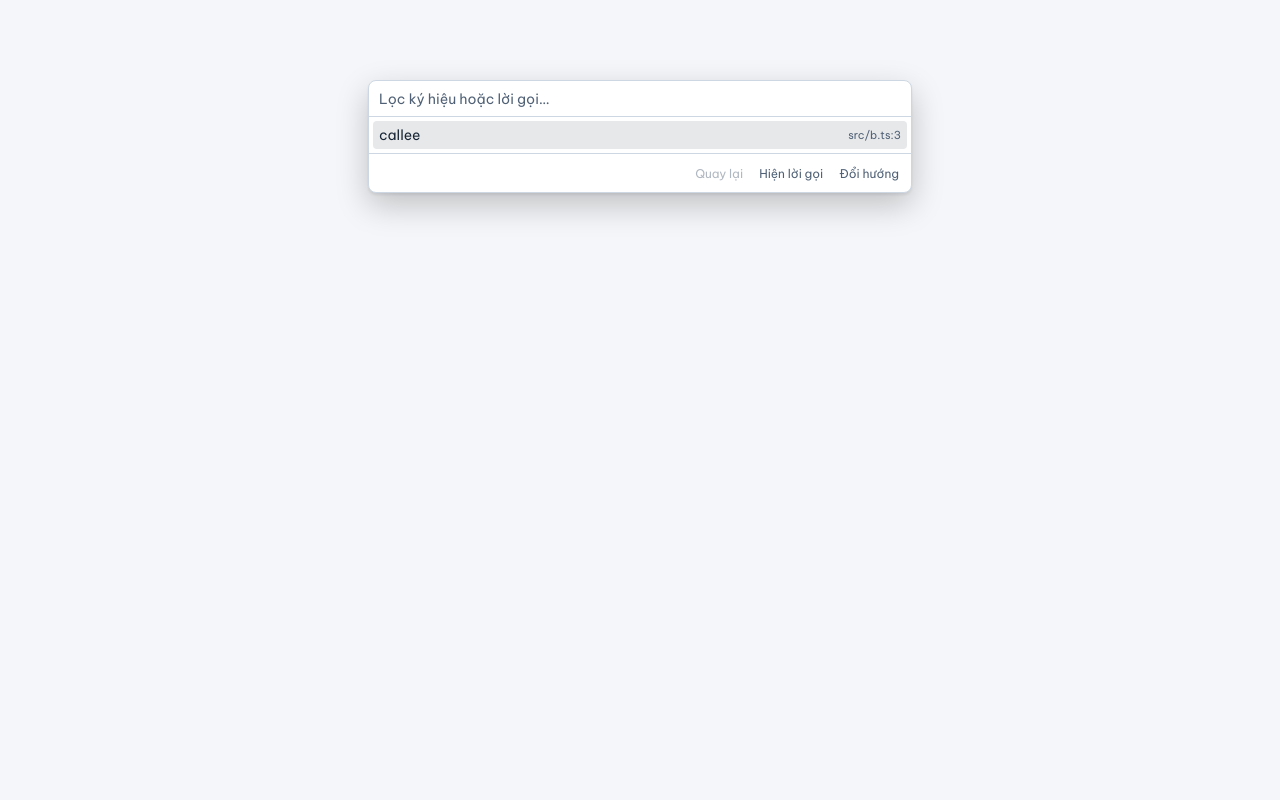
EditorTools › EditorTools E3 › phân cấp lời gọi › nút Quay lại đi lên stack và Đổi hướng gọi API với đúng gốc
Click the text "callee".
click(400, 135)  # box [379,126,420,144]
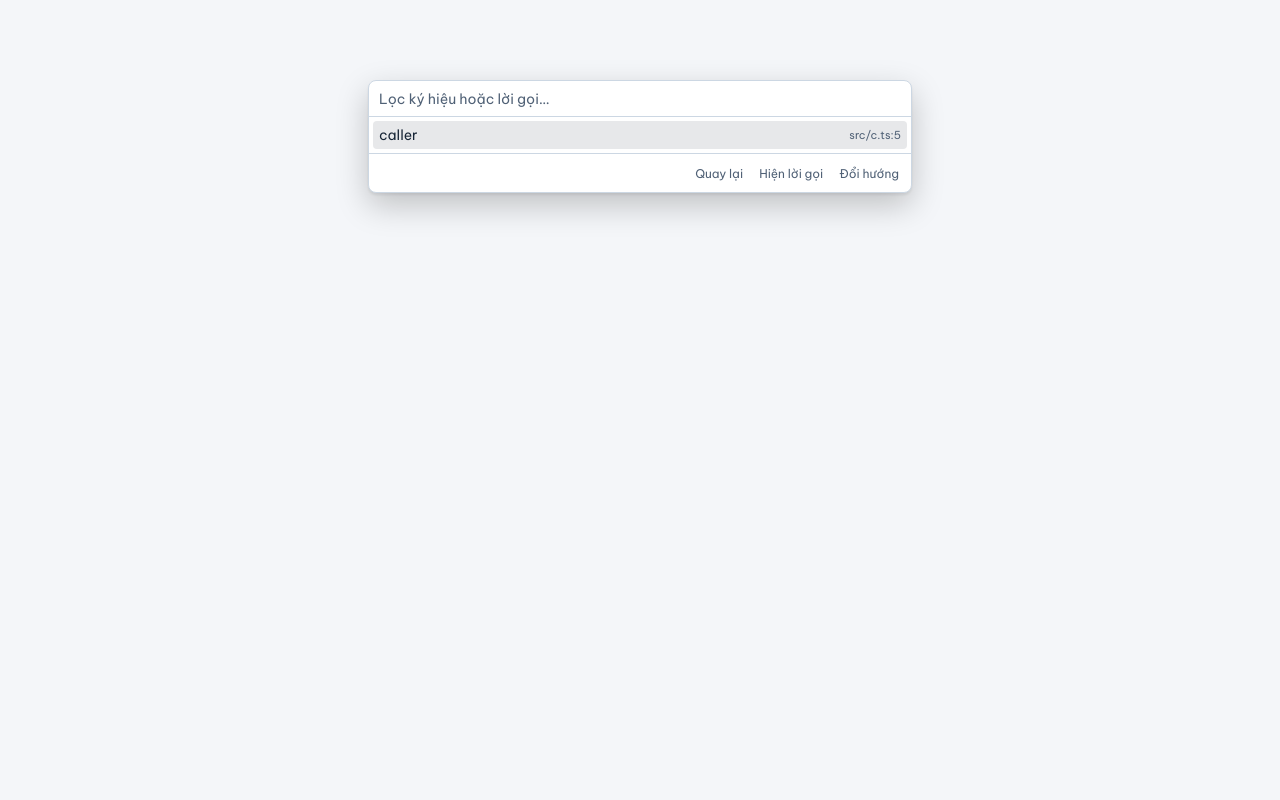
Expected: the text "caller" is shown, [379,126,418,144]
Click the button "Hiện lời gọi".
click(791, 173)  # box [753,160,829,186]
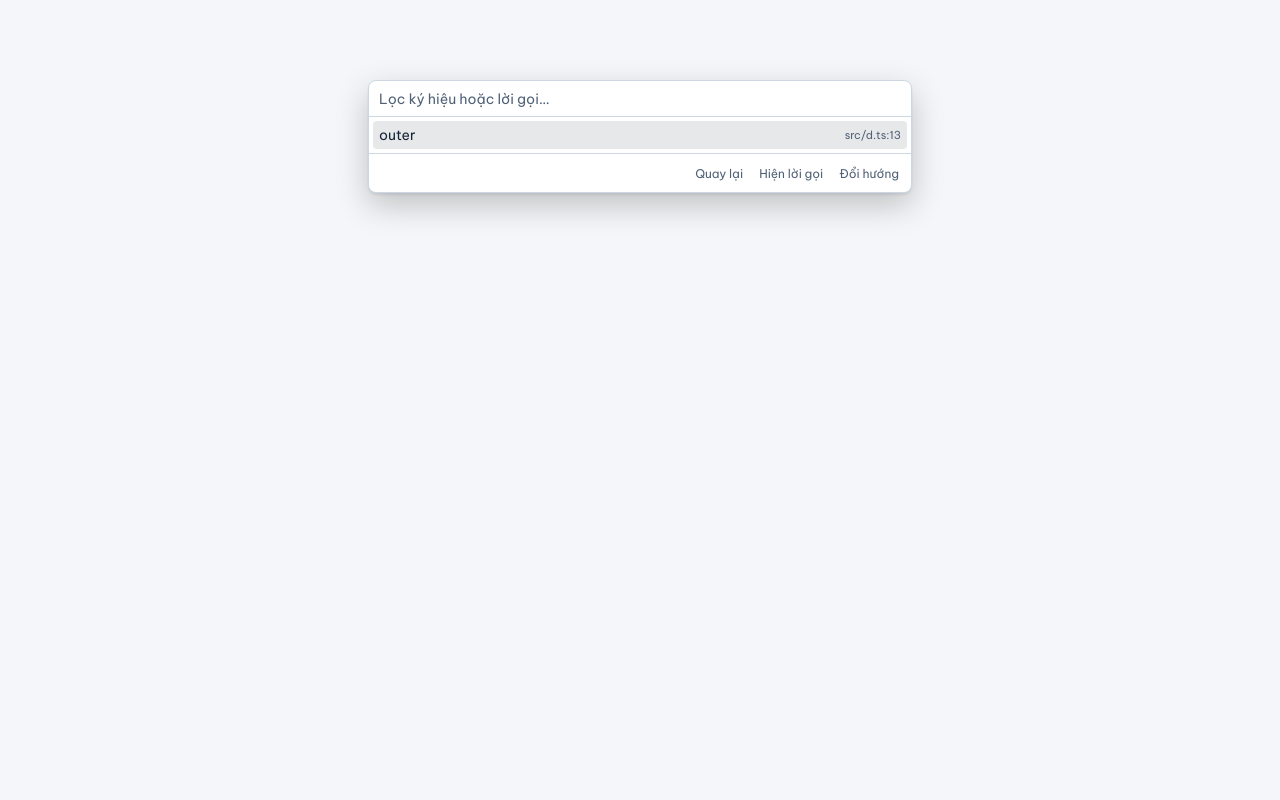
Expected: the text "outer" is shown, [379,126,416,144]
Click the button "Quay lại".
click(719, 173)  # box [689,160,749,186]
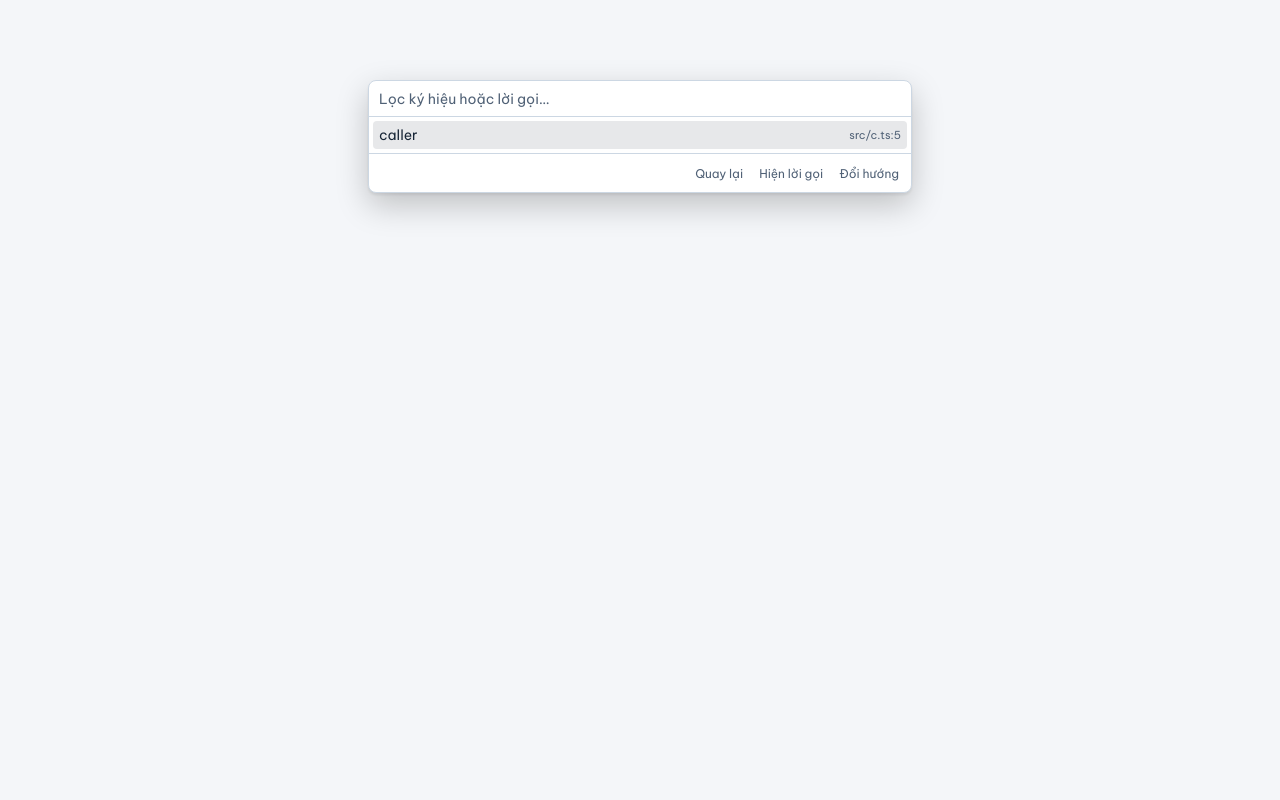
Expected: the text "caller" is shown, [379,126,418,144]
Click the button "Đổi hướng".
click(869, 173)  # box [833,160,905,186]
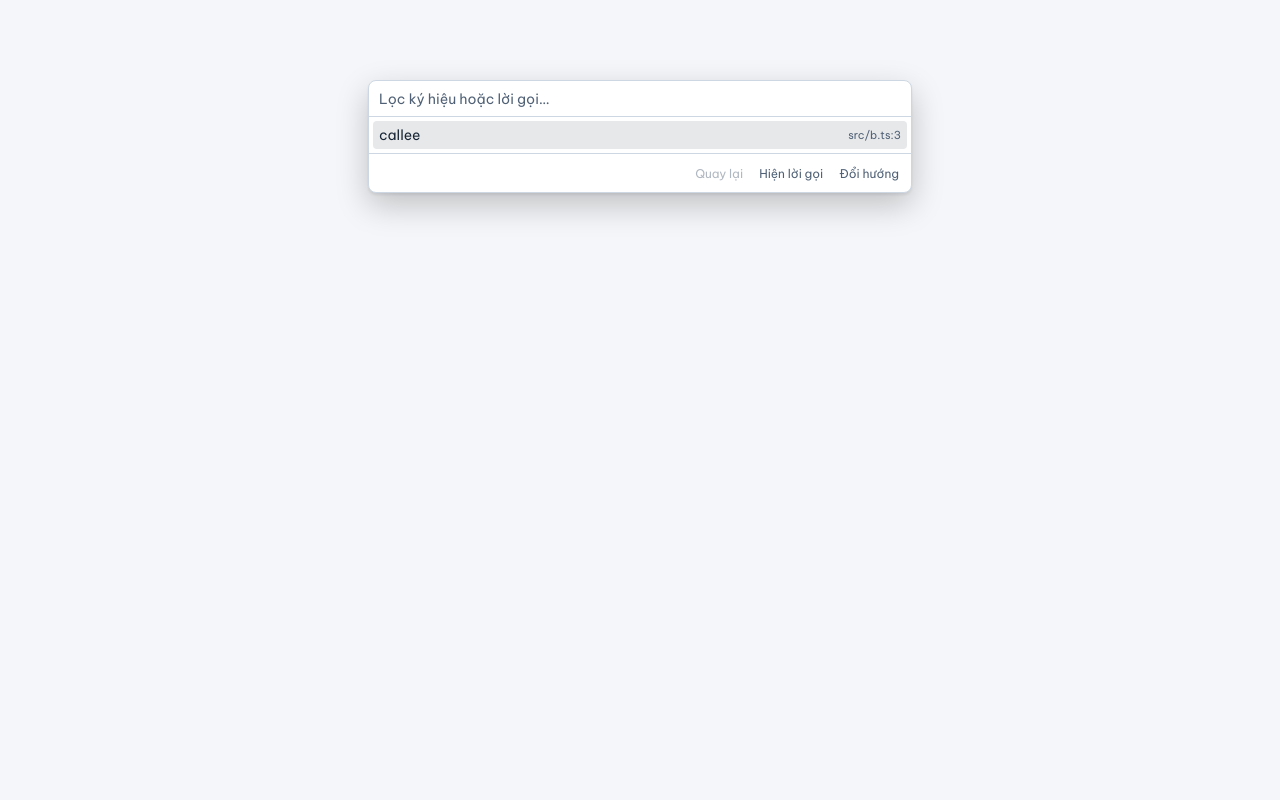
Expected: the text "callee" is shown, [379,126,420,144]
